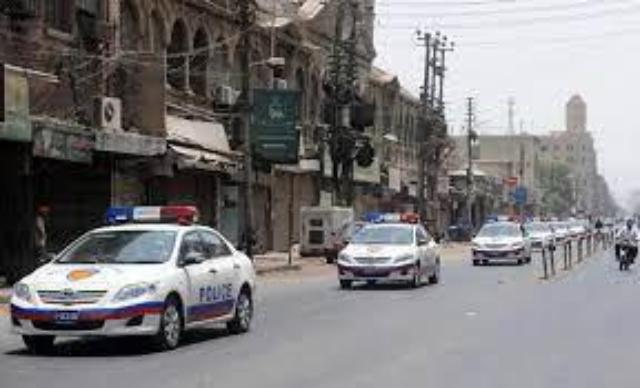police: (11, 198, 258, 349), (333, 211, 440, 296)
